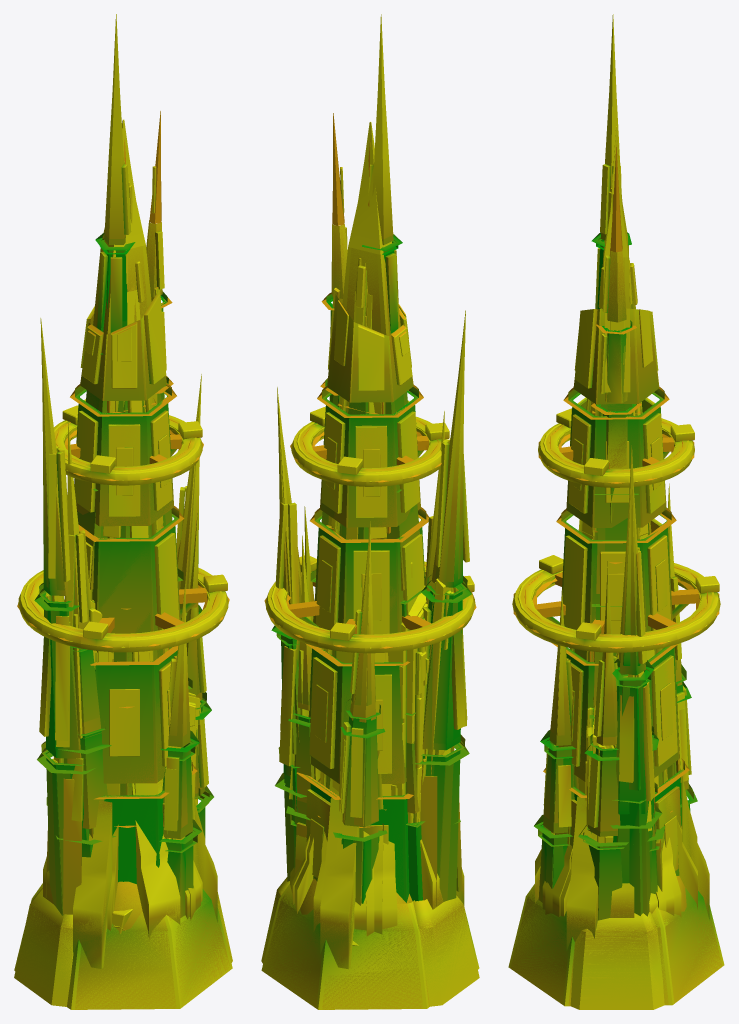
File: props.glb
The picture shows the model from 3 angles, left to right: view 1: azimuth 30°, elevation 25°; view 2: azimuth 150°, elevation 25°; view 3: azimuth 270°, elevation 25°; orthographic projection.
Visible parts, largest first — view 1: spire2_l0_wall, spire2_l1_wall, spire2_l0_wallDark, spire2_l0_wallLight, spire5_l0_trim, spire7_l1_wall, spire2_l1_wallDark, spire7_l0_wall, spire7_l0_accent, spire2_l1_accent, spire6_l0_wallDark, spire2_l0_accent (+32 smaller); view 2: spire2_l0_wall, spire7_l1_wall, spire2_l1_wallDark, spire7_l0_wall, spire2_l1_wall, spire2_l1_accent, spire2_l0_wallDark, spire5_l0_trim, spire2_l0_accent, spire2_l0_wallLight, spire6_l0_wallDark, spire7_l1_accent (+29 smaller); view 3: spire2_l0_wall, spire5_l0_trim, spire2_l0_wallDark, spire6_l0_wallDark, spire7_l1_wall, spire7_l0_wall, spire2_l0_wallLight, spire2_l1_accent, spire2_l1_wall, spire2_l0_accent, spire2_l1_wallDark, spire2_l0_accentDark (+25 smaller).
Part boxes in pixels (x1,y1,x2,y2): spire2_l0_wall: (79,234,177,884); spire2_l1_wall: (74,14,180,881); spire2_l0_wallDark: (39,886,229,1009); spire2_l0_wallLight: (73,238,217,968); spire5_l0_trim: (18,415,228,652); spire7_l1_wall: (40,318,201,917); spire2_l1_wallDark: (14,883,232,1009); spire7_l0_wall: (43,374,201,915); spire7_l0_accent: (39,446,194,914); spire2_l1_accent: (76,162,179,630); spire6_l0_wallDark: (14,888,232,1006); spire2_l0_accent: (82,164,172,515); spire2_l0_wall: (310,235,414,899); spire7_l1_wall: (277,310,465,905); spire2_l1_wallDark: (261,884,479,1009); spire7_l0_wall: (277,376,464,903); spire2_l1_wall: (308,14,424,902); spire2_l1_accent: (306,164,424,878); spire2_l0_wallDark: (264,886,429,1009); spire5_l0_trim: (265,416,475,653); spire2_l0_accent: (306,256,412,881); spire2_l0_wallLight: (303,240,464,968); spire6_l0_wallDark: (261,881,479,1006); spire7_l1_accent: (279,438,466,906); spire2_l0_wall: (562,233,681,847); spire5_l0_trim: (512,418,720,652); spire2_l0_wallDark: (510,888,722,1006); spire6_l0_wallDark: (570,912,664,1009); spire7_l1_wall: (538,447,689,916); spire7_l0_wall: (543,445,690,915); spire2_l0_wallLight: (562,238,709,941); spire2_l1_accent: (562,165,681,875); spire2_l1_wall: (562,14,681,815); spire2_l0_accent: (568,164,680,875); spire2_l1_wallDark: (508,884,724,1006); spire2_l0_accentDark: (555,308,678,870).
Bounding box in the file's own units: 24.8 × 123 × 25.41.
